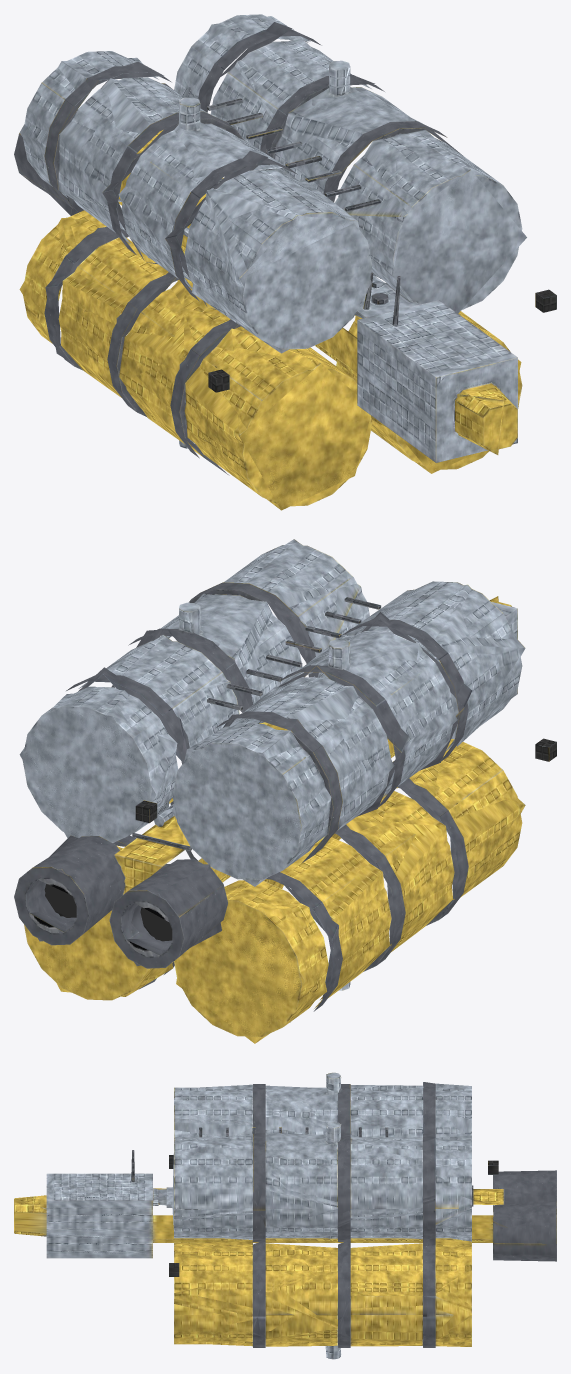
File: sd_npc_tanker.glb
The picture shows the model from 3 angles, top to bottom: view 1: azimuth 30°, elevation 25°; view 2: azimuth 150°, elevation 25°; view 3: azimuth 270°, elevation 25°; orthographic projection. The views are drawn at different scales.
Parts seen in each view (by area): view 1: LOD0_body, LOD1_body; view 2: LOD0_body, LOD1_body; view 3: LOD0_body, LOD1_body.
Boxes of the visible parts, x1=… form: LOD0_body: x1=14, y1=14, x2=556, y2=506; LOD1_body: x1=19, y1=16, x2=526, y2=510; LOD0_body: x1=14, y1=545, x2=556, y2=1036; LOD1_body: x1=19, y1=539, x2=525, y2=1043; LOD0_body: x1=14, y1=1072, x2=556, y2=1359; LOD1_body: x1=14, y1=1074, x2=556, y2=1357.
Size of the model in its own units: 0.4902 by 0.4706 by 1.
1 material, 1 textured.
